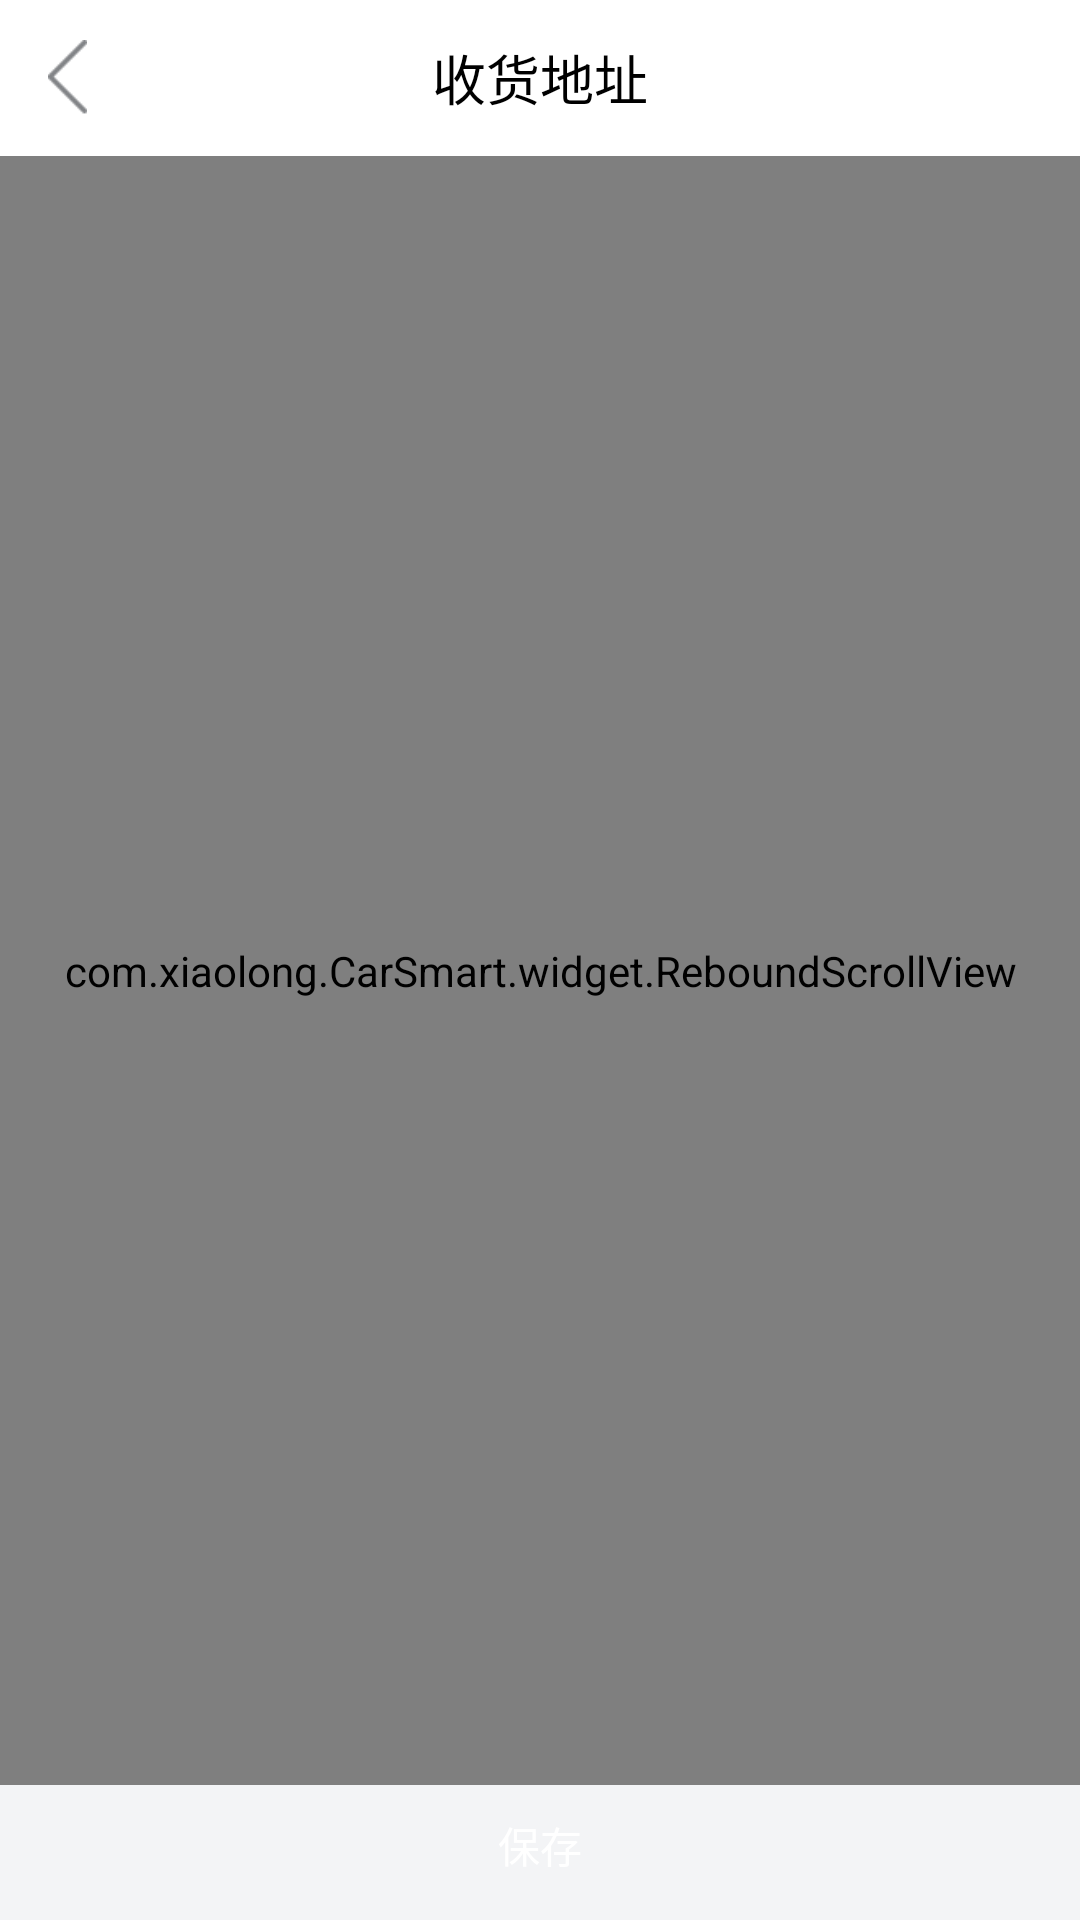

Where icons sit on this 1080*1920 app screen, as [x1, y1, x2, y2]:
back: [48, 40, 87, 114]
